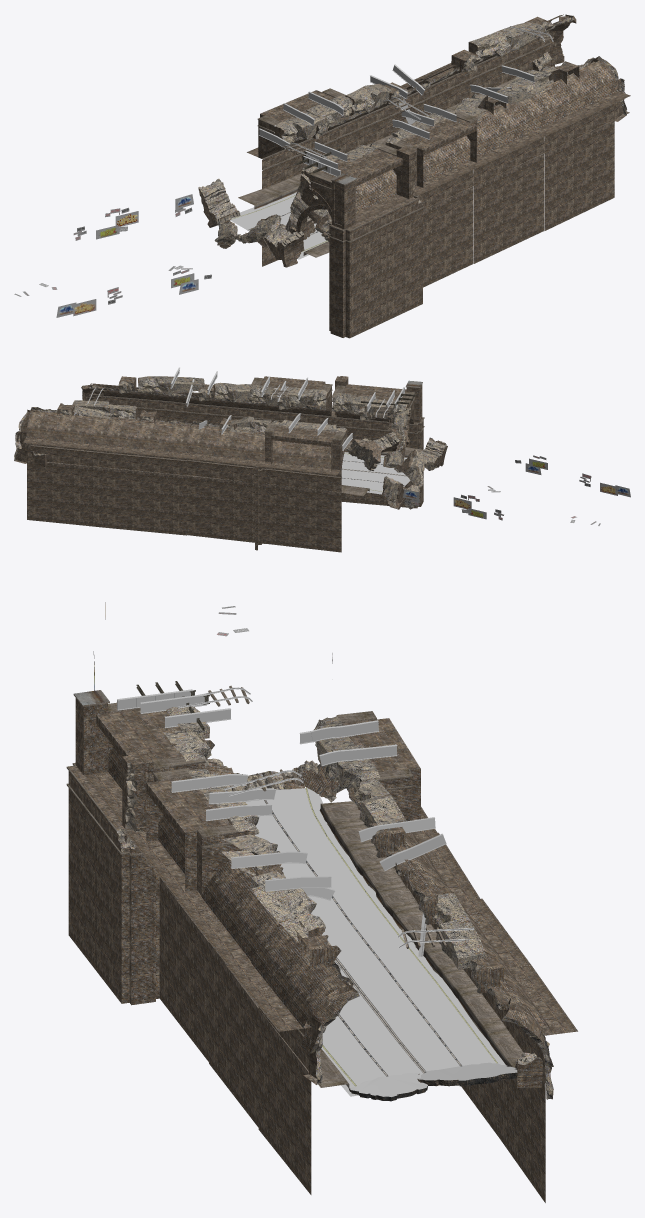
The model's file is Map11_tunnel2.fbx.
3 renders of one model, top to bottom at view 1: azimuth 30°, elevation 25°; view 2: azimuth 150°, elevation 25°; view 3: azimuth 270°, elevation 25°, orthographic. The views are drawn at different scales.
Visible parts, largest first — view 1: LOD_1_Group_0_Sub_1__l04_10_brick00, LOD_1_Group_1_Sub_2__l04_10_stone03, LOD_1_Group_0_Sub_2__l11_concreteA_Mat, LOD_1_Group_1_Sub_1__l04_10_brick00, LOD_1_Group_0_Sub_4__l11_01_graffiti01, LOD_1_Group_1_Sub_4__l04_10_iron00, LOD_1_Group_0_Sub_6__l02_pavement06, LOD_1_Group_9_Sub_1__l04_10_stone03, LOD_1_Group_9_Sub_3__l04_10_iron00, LOD_1_Group_0_Sub_5__l04_10_stone03, LOD_1_Group_8_Sub_3__l04_10_iron00, LOD_1_Group_8_Sub_4__l04_10_stone03; view 2: LOD_1_Group_0_Sub_1__l04_10_brick00, LOD_1_Group_1_Sub_2__l04_10_stone03, LOD_1_Group_0_Sub_2__l11_concreteA_Mat, LOD_1_Group_1_Sub_1__l04_10_brick00, LOD_1_Group_9_Sub_1__l04_10_stone03, LOD_1_Group_0_Sub_4__l11_01_graffiti01, LOD_1_Group_0_Sub_6__l02_pavement06, LOD_1_Group_0_Sub_5__l04_10_stone03, LOD_1_Group_8_Sub_4__l04_10_stone03, LOD_1_Group_1_Sub_4__l04_10_iron00, LOD_1_Group_9_Sub_3__l04_10_iron00; view 3: LOD_1_Group_0_Sub_1__l04_10_brick00, LOD_1_Group_0_Sub_6__l02_pavement06, LOD_1_Group_0_Sub_2__l11_concreteA_Mat, LOD_1_Group_1_Sub_2__l04_10_stone03, LOD_1_Group_1_Sub_4__l04_10_iron00, LOD_1_Group_1_Sub_1__l04_10_brick00, LOD_1_Group_9_Sub_3__l04_10_iron00, LOD_1_Group_0_Sub_5__l04_10_stone03, LOD_1_Group_8_Sub_3__l04_10_iron00, LOD_1_Group_0_Sub_3__m02_pavement05, LOD_1_Group_9_Sub_1__l04_10_stone03, LOD_1_Group_8_Sub_4__l04_10_stone03 (+1 smaller).
Boxes of the visible parts, box(x1,y1,x2,y2) form: LOD_1_Group_0_Sub_1__l04_10_brick00: box(247, 14, 630, 338); LOD_1_Group_1_Sub_2__l04_10_stone03: box(198, 21, 567, 256); LOD_1_Group_0_Sub_2__l11_concreteA_Mat: box(238, 38, 629, 257); LOD_1_Group_1_Sub_1__l04_10_brick00: box(198, 16, 579, 267); LOD_1_Group_0_Sub_4__l11_01_graffiti01: box(14, 194, 211, 317); LOD_1_Group_1_Sub_4__l04_10_iron00: box(259, 26, 553, 150); LOD_1_Group_0_Sub_6__l02_pavement06: box(230, 66, 553, 259); LOD_1_Group_9_Sub_1__l04_10_stone03: box(386, 94, 486, 143); LOD_1_Group_9_Sub_3__l04_10_iron00: box(383, 97, 456, 139); LOD_1_Group_0_Sub_5__l04_10_stone03: box(288, 16, 626, 203); LOD_1_Group_8_Sub_3__l04_10_iron00: box(283, 141, 347, 176); LOD_1_Group_8_Sub_4__l04_10_stone03: box(301, 143, 383, 172); LOD_1_Group_0_Sub_1__l04_10_brick00: box(15, 376, 423, 552); LOD_1_Group_1_Sub_2__l04_10_stone03: box(32, 376, 446, 509); LOD_1_Group_0_Sub_2__l11_concreteA_Mat: box(30, 377, 424, 496); LOD_1_Group_1_Sub_1__l04_10_brick00: box(31, 376, 447, 509); LOD_1_Group_9_Sub_1__l04_10_stone03: box(214, 382, 327, 409); LOD_1_Group_0_Sub_4__l11_01_graffiti01: box(403, 455, 630, 525); LOD_1_Group_0_Sub_6__l02_pavement06: box(341, 452, 410, 494); LOD_1_Group_0_Sub_5__l04_10_stone03: box(14, 385, 406, 460); LOD_1_Group_8_Sub_4__l04_10_stone03: box(332, 393, 407, 420); LOD_1_Group_1_Sub_4__l04_10_iron00: box(86, 367, 352, 450); LOD_1_Group_9_Sub_3__l04_10_iron00: box(261, 376, 307, 401); LOD_1_Group_0_Sub_1__l04_10_brick00: box(68, 698, 577, 1202); LOD_1_Group_0_Sub_6__l02_pavement06: box(246, 788, 517, 1096); LOD_1_Group_0_Sub_2__l11_concreteA_Mat: box(66, 690, 545, 1087); LOD_1_Group_1_Sub_2__l04_10_stone03: box(203, 716, 542, 1065); LOD_1_Group_1_Sub_4__l04_10_iron00: box(231, 720, 473, 956); LOD_1_Group_1_Sub_1__l04_10_brick00: box(203, 716, 542, 1087); LOD_1_Group_9_Sub_3__l04_10_iron00: box(171, 770, 303, 821); LOD_1_Group_0_Sub_5__l04_10_stone03: box(116, 744, 553, 1099); LOD_1_Group_8_Sub_3__l04_10_iron00: box(117, 687, 252, 728); LOD_1_Group_0_Sub_3__m02_pavement05: box(264, 787, 497, 1086); LOD_1_Group_9_Sub_1__l04_10_stone03: box(186, 768, 280, 876); LOD_1_Group_8_Sub_4__l04_10_stone03: box(163, 706, 211, 766).
Bounding box in the file's own units: 15439 × 3622 × 6758.
